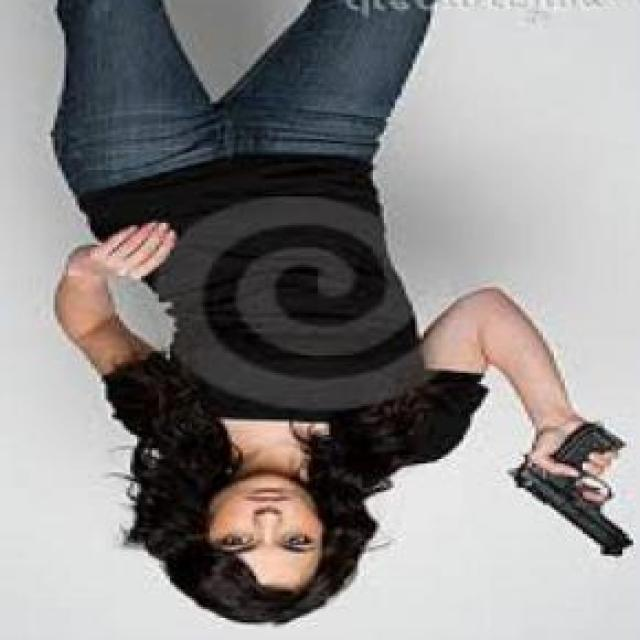pistol: (514, 426, 634, 563)
